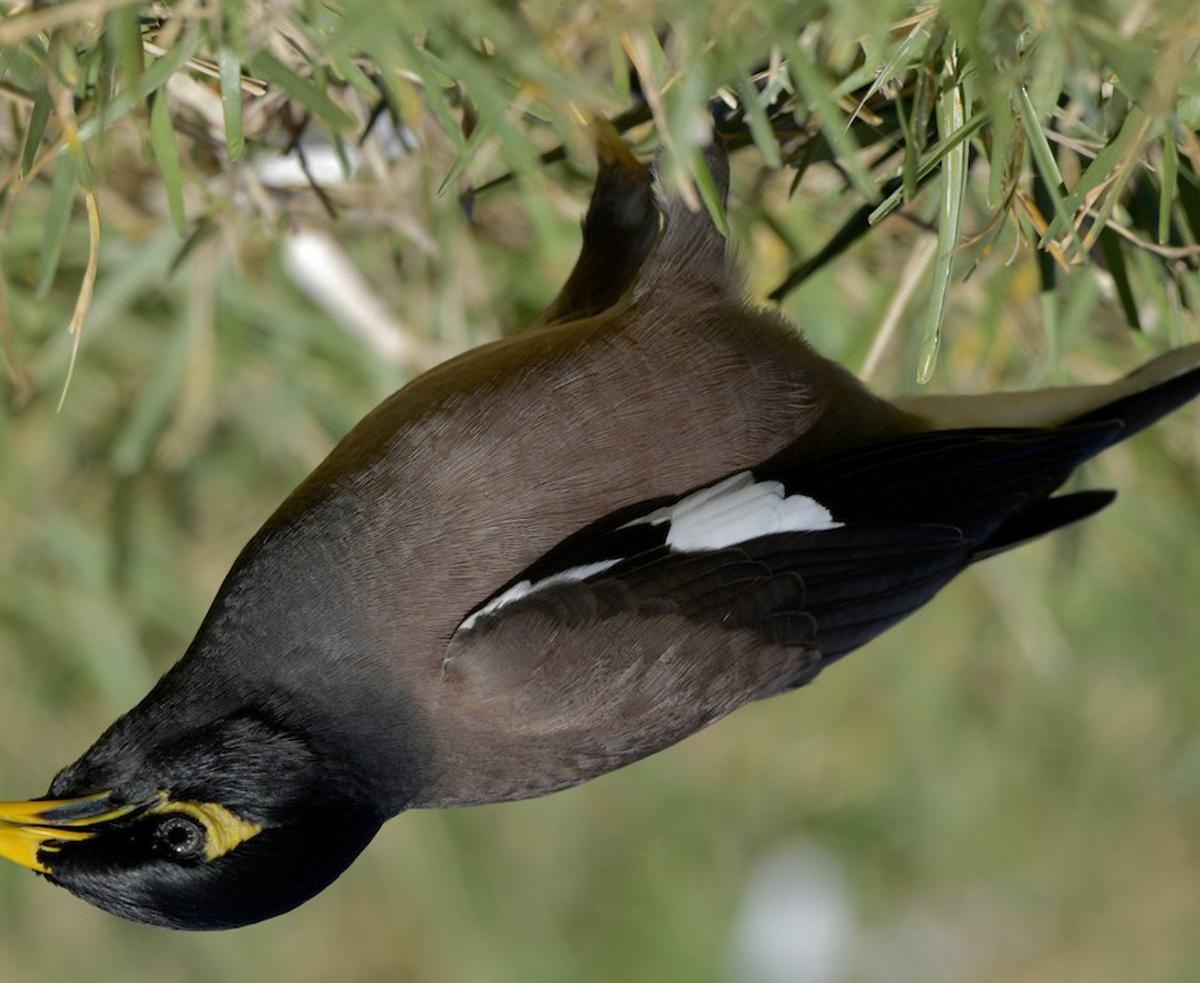myna: (2, 293, 1092, 919)
